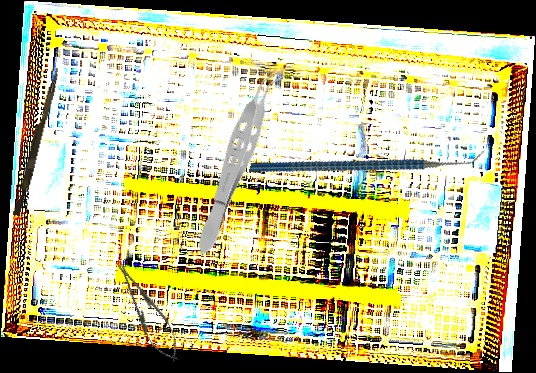Chopper: (248, 81, 486, 239)
Needle Holder: (106, 254, 189, 368)
Pusher: (12, 65, 61, 218)
Tissue Forceps: (187, 59, 291, 261)
